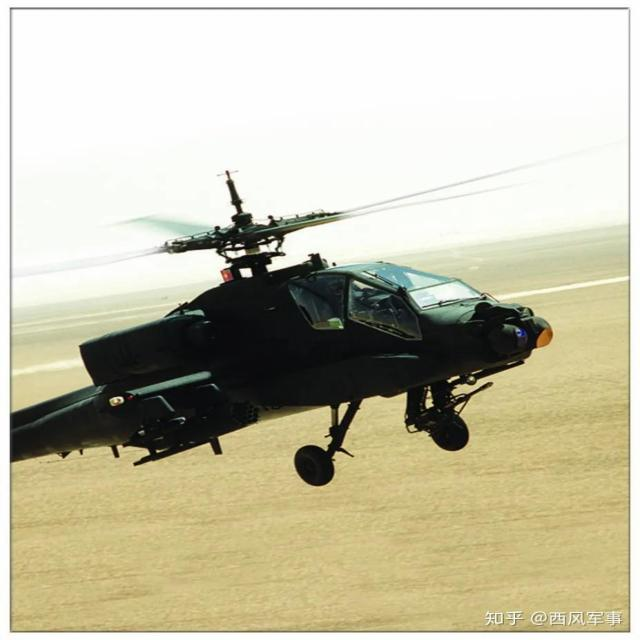MIL_HELO: (4, 152, 557, 498)
